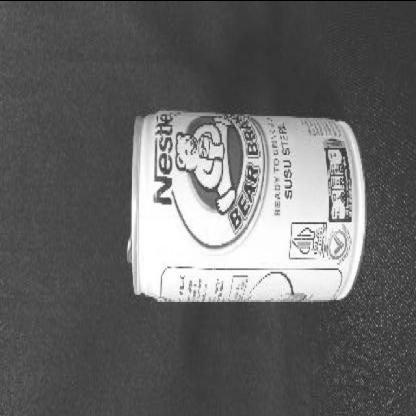alumunium_can: (128, 108, 368, 302)
